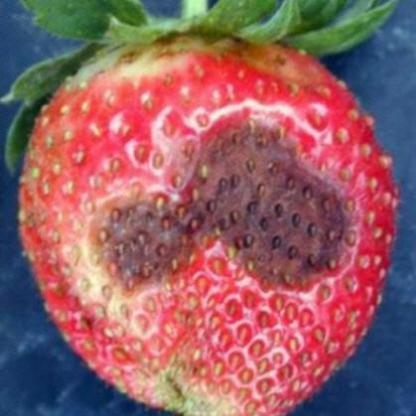Strawberry_Anthracnose_Fruit_Rot: (79, 104, 362, 302)
